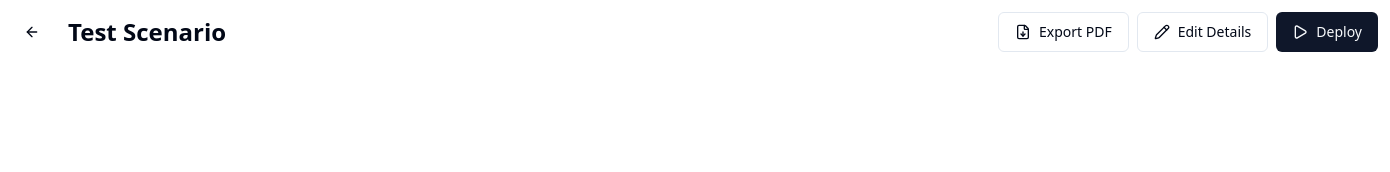
ScenarioHeader › shows loading state when exporting PDF
Click the button "Export PDF" at {"x": 1063, "y": 32}, box [998,12,1129,52]
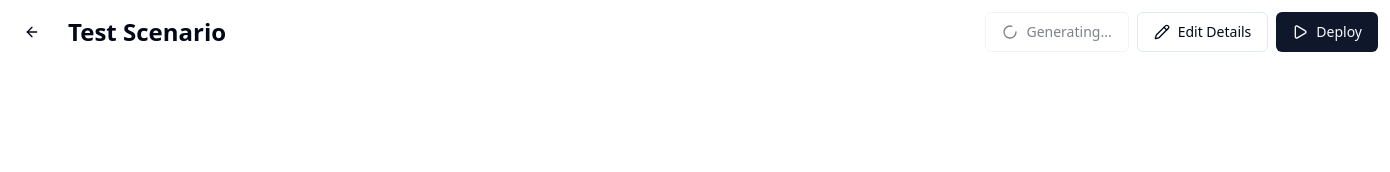
Now the button "Generating..." is disabled, box [986,12,1129,52]
